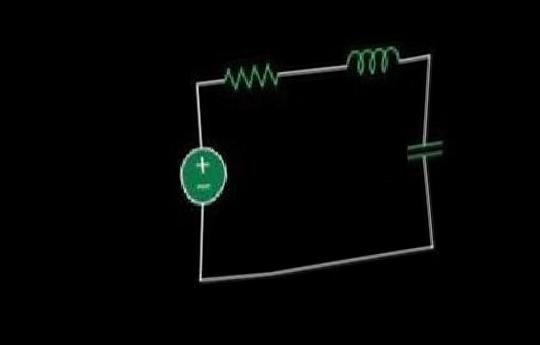Battery: (161, 134, 244, 212)
